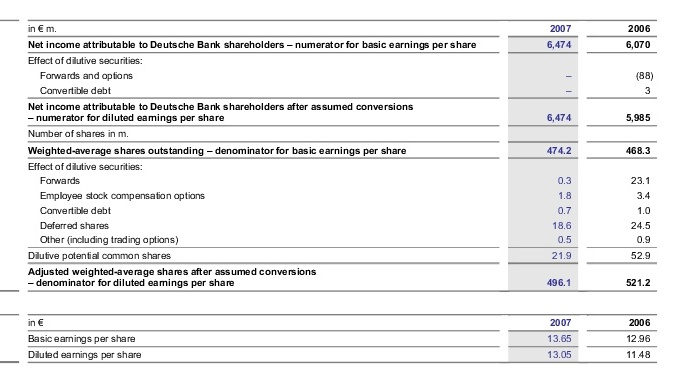table: (0, 0, 681, 380)
